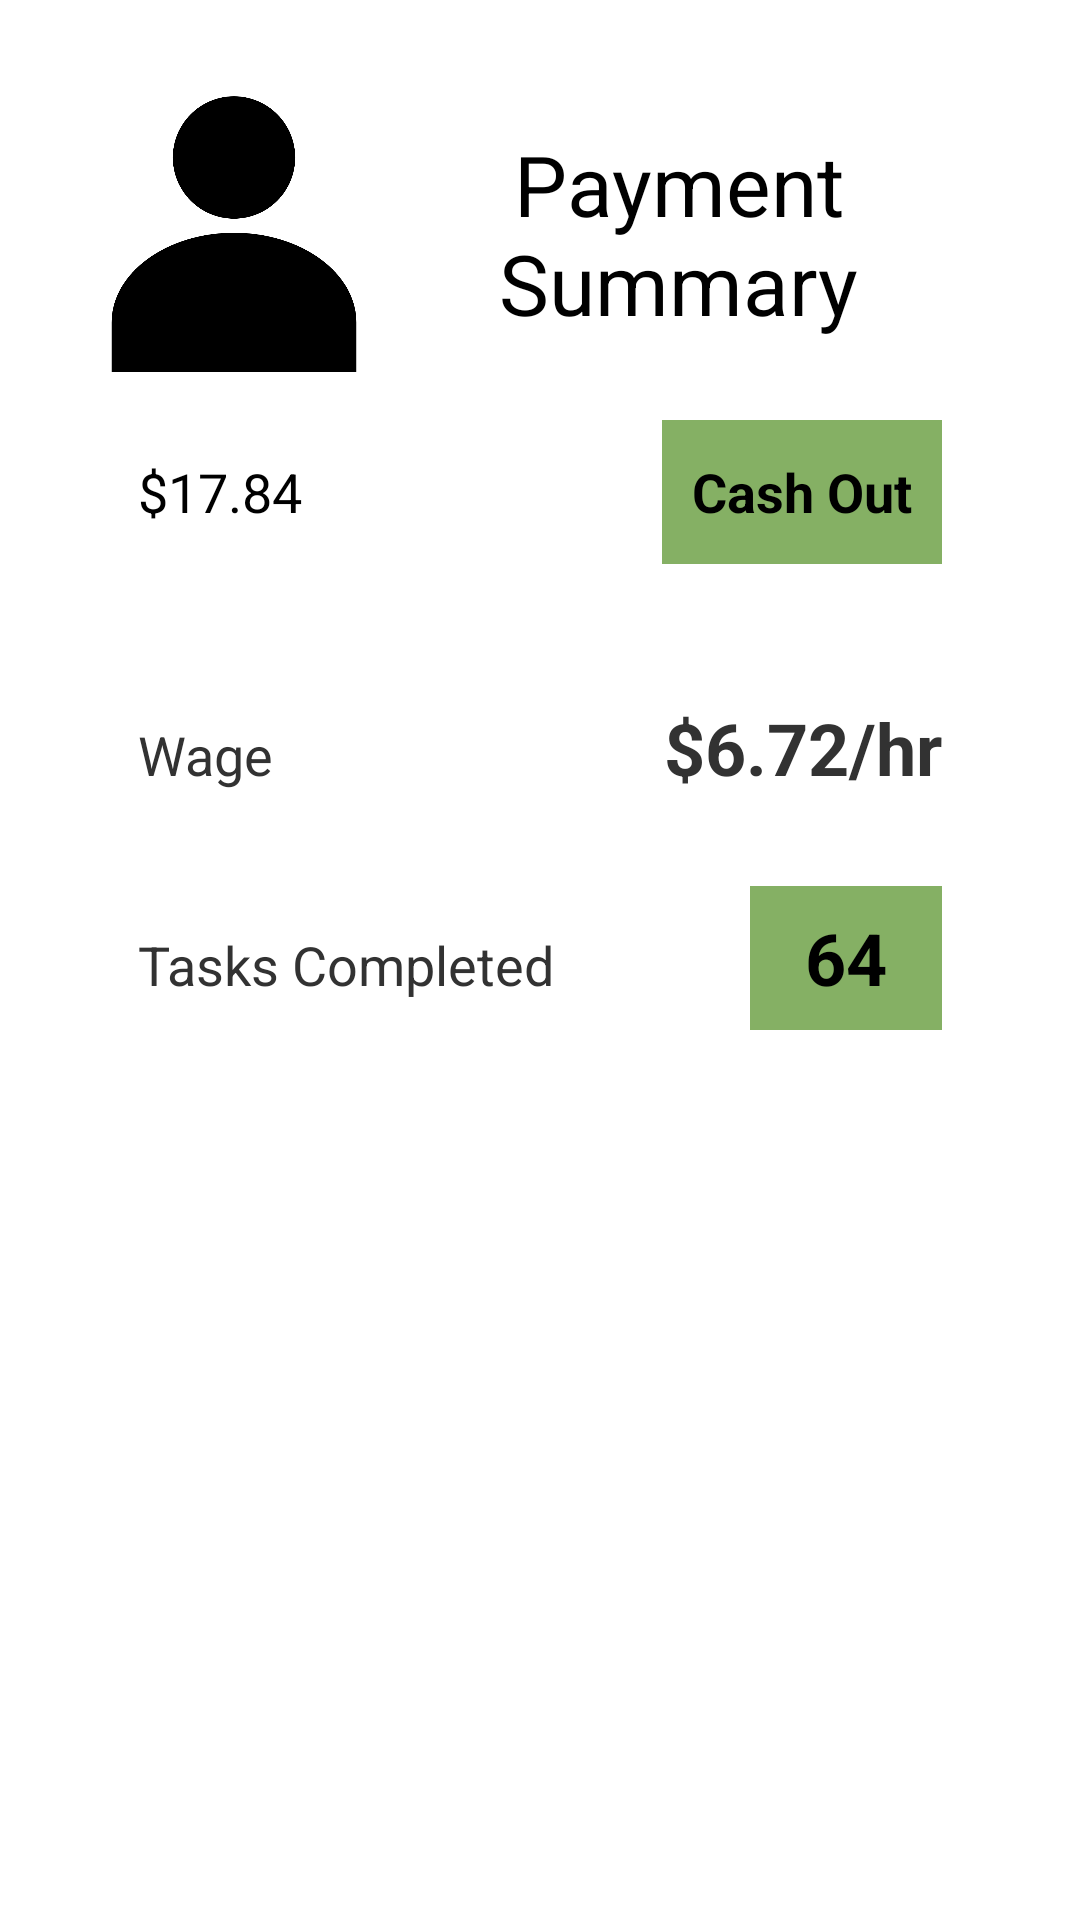

Icons on this 1080×1920 Android screen, each with its box as (x1, y1, x2, y2):
person: (111, 96, 357, 372)
